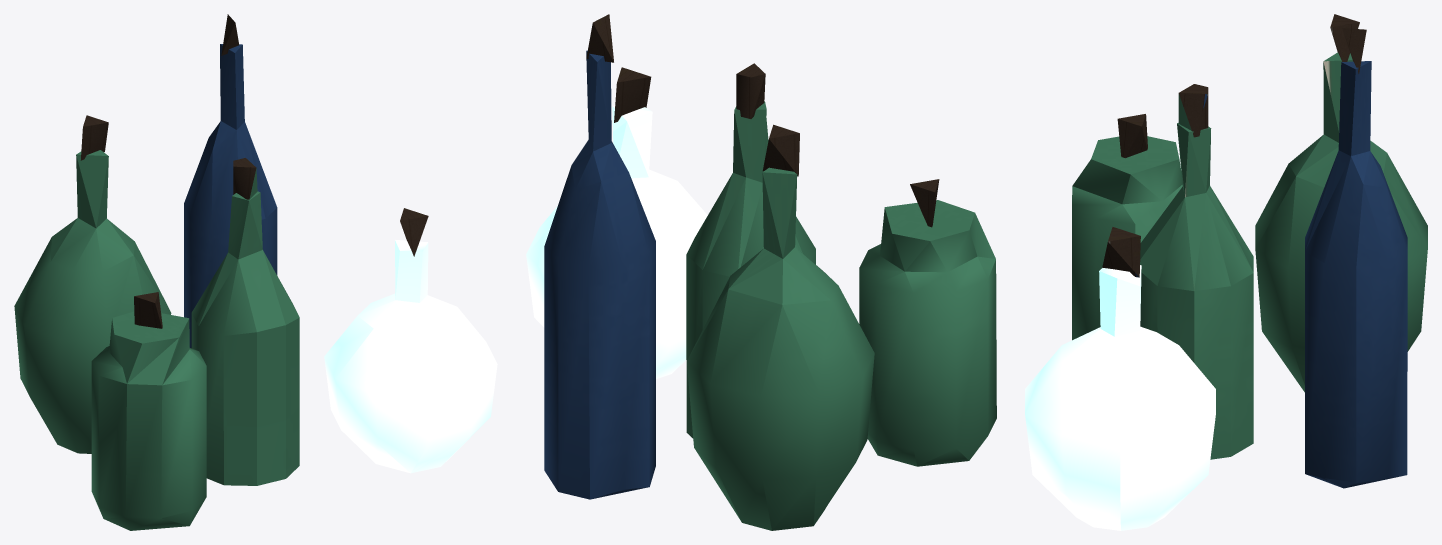
File: bottles_lod1.glb
3 views of the same model, side by side, from view 1: azimuth 30°, elevation 25°; view 2: azimuth 150°, elevation 25°; view 3: azimuth 270°, elevation 25° (orthographic). The views are drawn at different scales.
Visible parts, largest first — view 1: bottles; view 2: bottles; view 3: bottles.
Boxes of the visible parts, left/top/right/bottom form: bottles: left=14, top=14, right=497, bottom=530; bottles: left=526, top=14, right=996, bottom=530; bottles: left=1025, top=14, right=1427, bottom=530.
Bounding box in the file's own units: 0.3431 × 0.3292 × 0.2732.
Materials: 1 (1 with a texture image).
